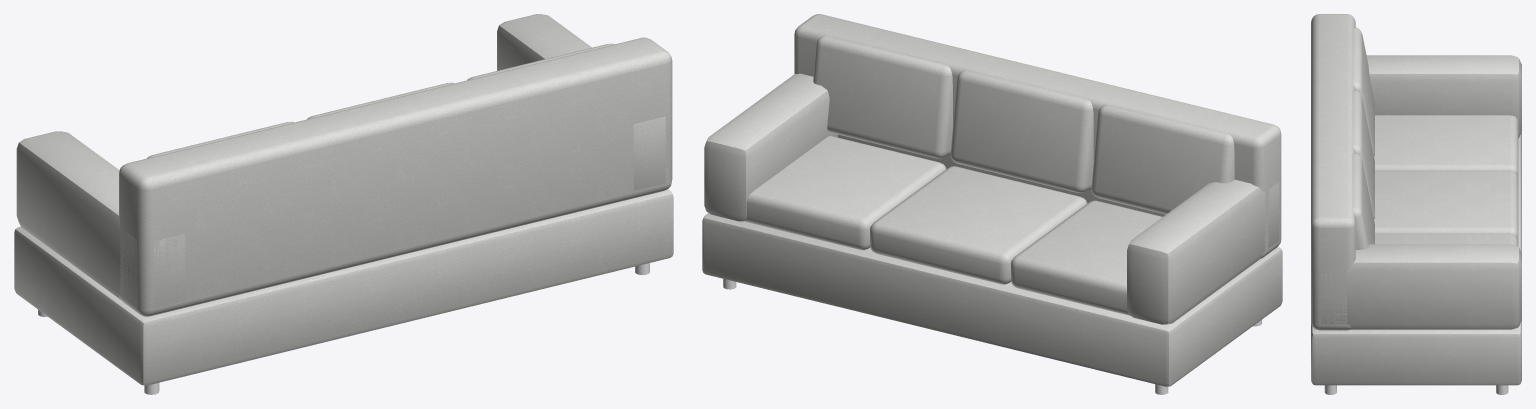
Rendered from sofa_lounge.gltf.
The picture shows the model from 3 angles, left to right: view 1: azimuth 30°, elevation 25°; view 2: azimuth 150°, elevation 25°; view 3: azimuth 270°, elevation 25°; orthographic projection. The views are drawn at different scales.
Visible parts, largest first — view 1: sofa_lounge; view 2: sofa_lounge; view 3: sofa_lounge.
Boxes of the visible parts, x1,y1,x2,y2 form: sofa_lounge: [14, 14, 673, 394]; sofa_lounge: [702, 14, 1282, 394]; sofa_lounge: [1311, 14, 1521, 394].
Size of the model in its own units: 2 by 0.8 by 0.85.
2 materials, 1 textured.
